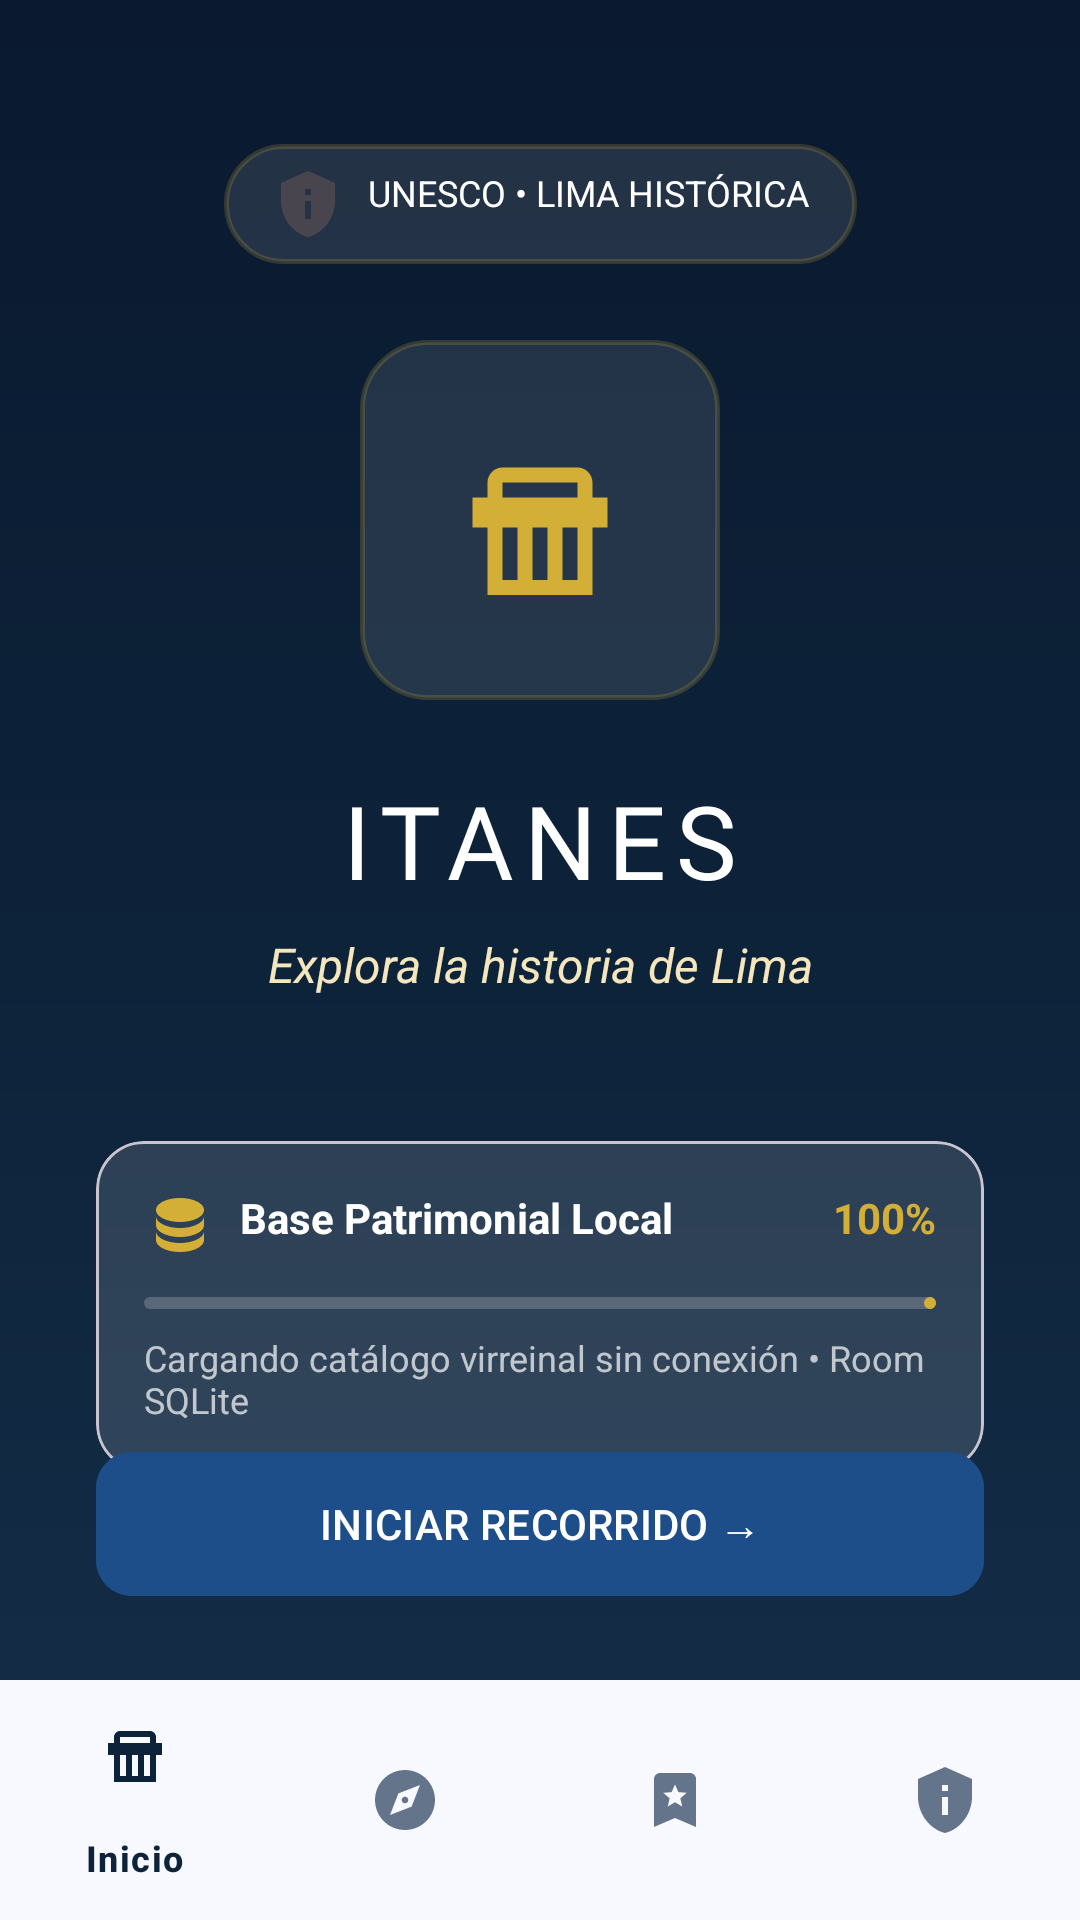

Named icons in this screenshot (1080 × 1920) and their centers, (x=x, y=y):
database: (x=180, y=1225)
